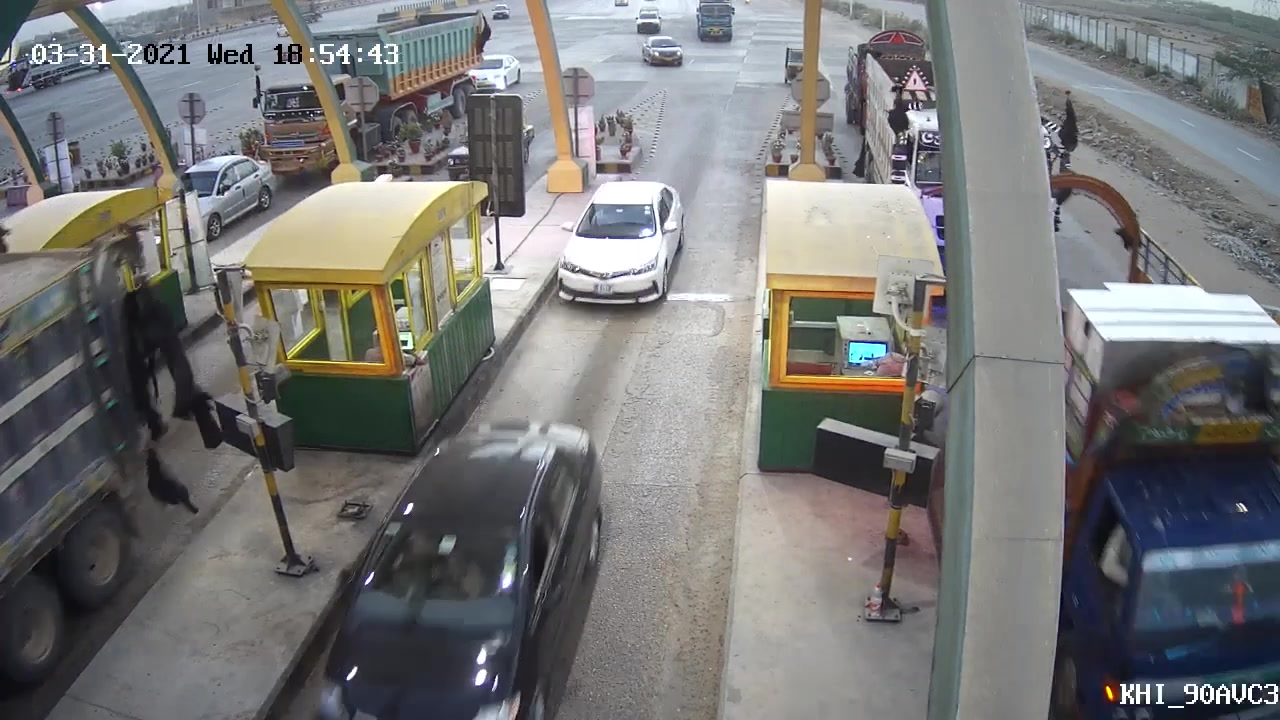F1: (547, 176, 689, 314)
